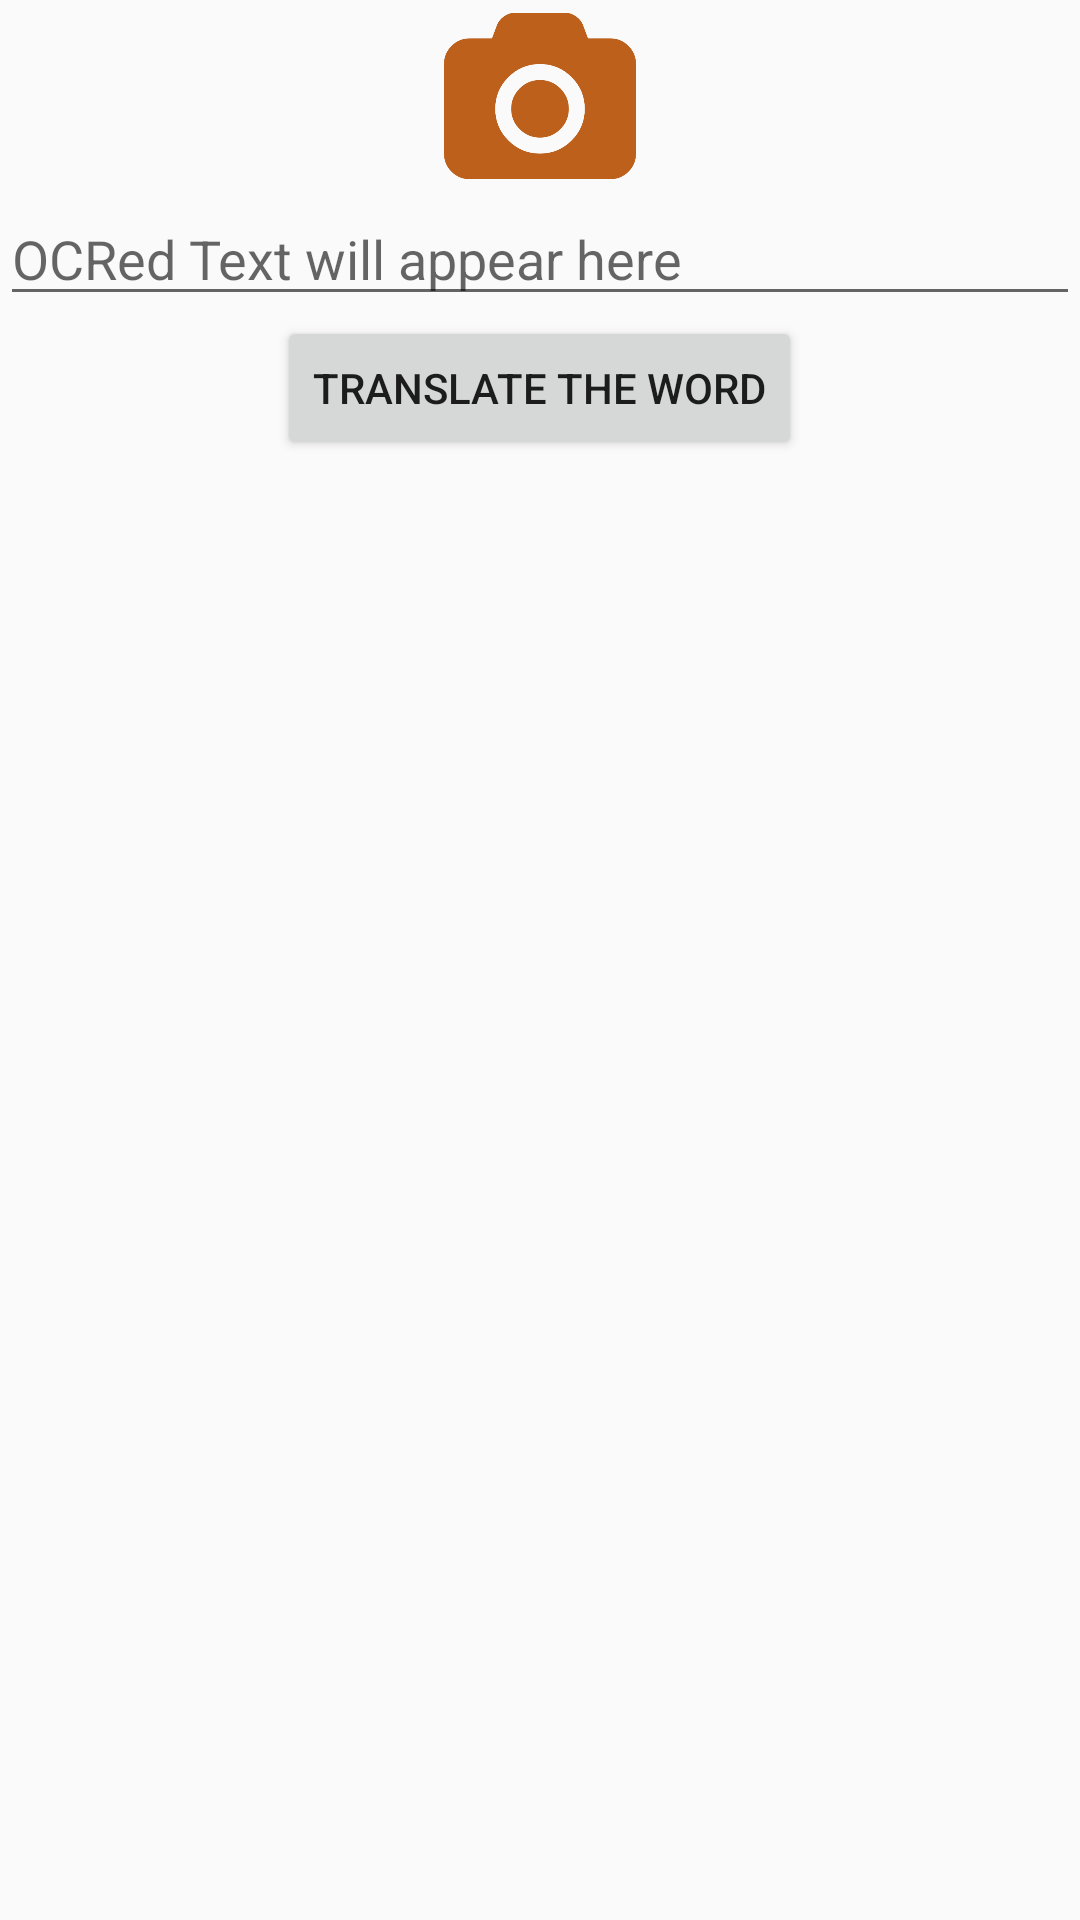

Icon click points for this 1080px×1920px phone screenshot, format point (x, y):
camera: point (540, 96)
